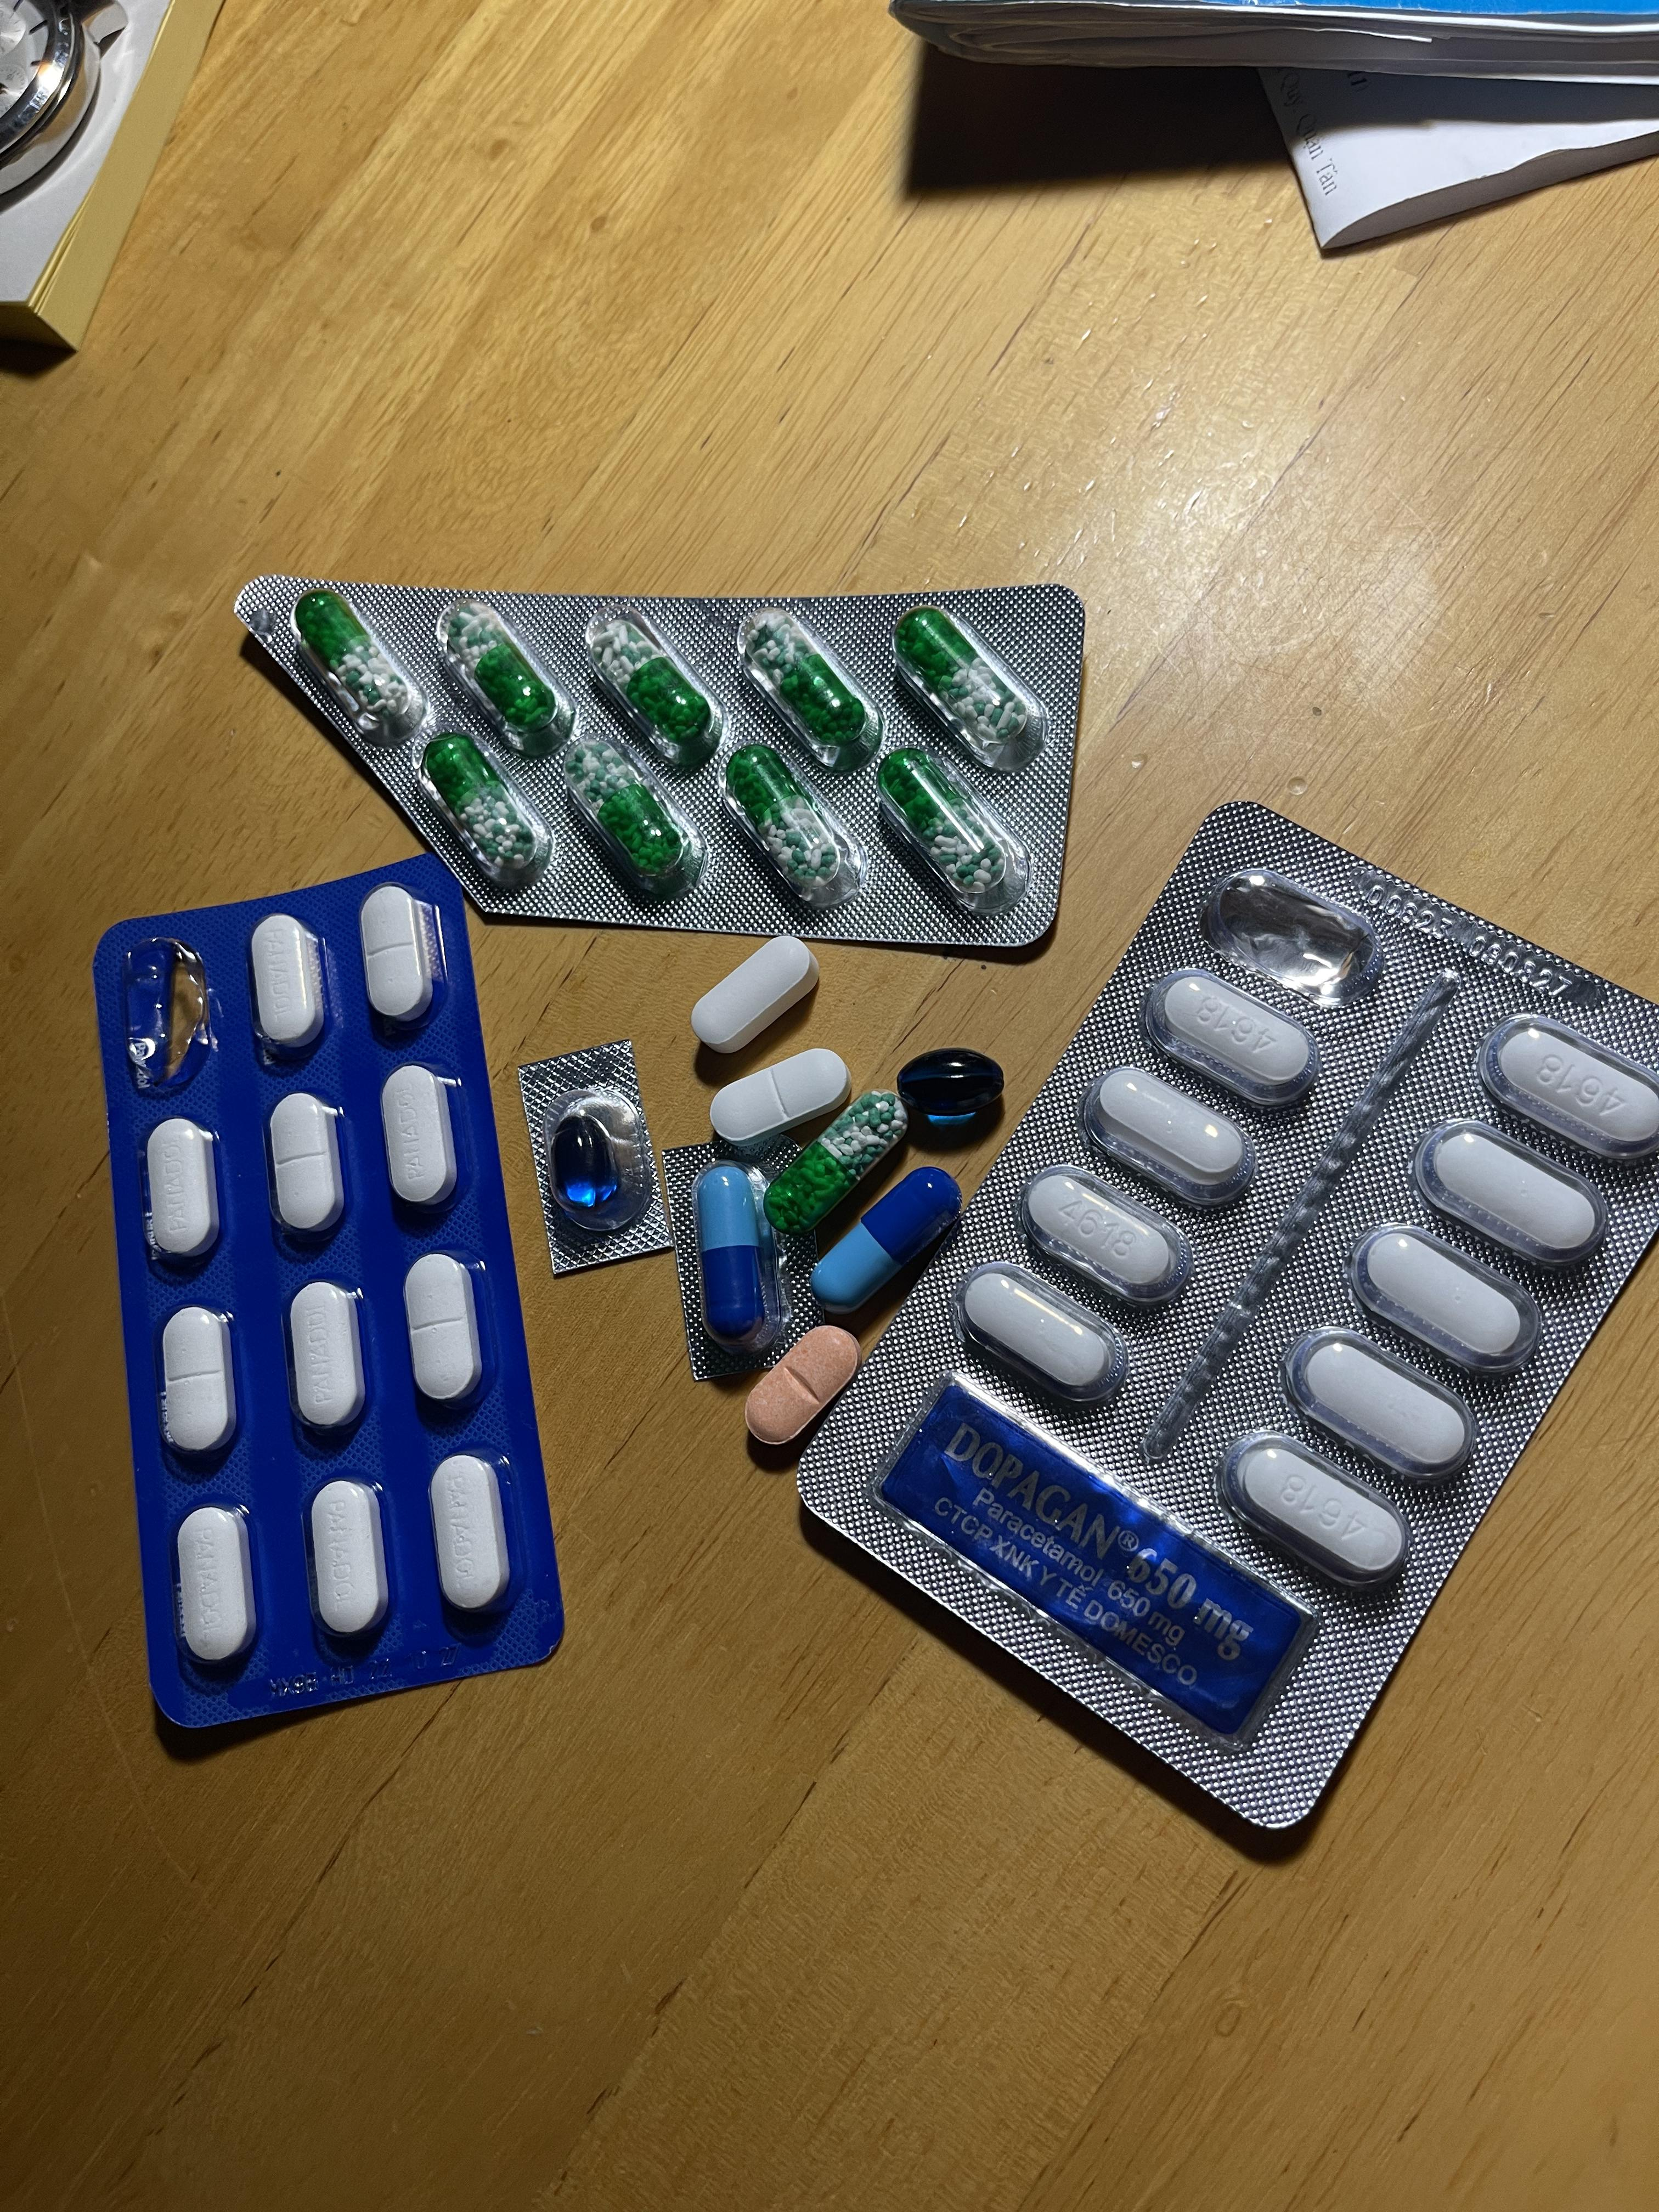Lincomyxin_500mg: (894, 1047, 1002, 1130), (551, 1111, 619, 1209)
Loratadine_10mg: (746, 1320, 859, 1440)
Paracetamol_350mg: (711, 1047, 849, 1153), (174, 1505, 254, 1665), (308, 1480, 387, 1641), (430, 1454, 509, 1613), (404, 1254, 481, 1407), (288, 1282, 364, 1432), (160, 1305, 235, 1456), (380, 1066, 457, 1209), (145, 1116, 220, 1259), (268, 1090, 343, 1233), (251, 914, 326, 1050), (361, 890, 434, 1021)
Paracetamol_500mg: (1297, 1334, 1466, 1468), (1361, 1228, 1525, 1360), (1429, 1127, 1596, 1254), (1025, 1165, 1176, 1305), (1237, 1446, 1394, 1575), (1502, 1028, 1657, 1144), (1100, 1069, 1244, 1186), (967, 1273, 1105, 1390), (1164, 974, 1305, 1087), (688, 939, 819, 1049)
Paracetamol_650mg: (894, 601, 1051, 770), (885, 744, 1033, 906), (741, 608, 885, 773), (586, 610, 730, 773), (558, 732, 701, 897), (436, 596, 577, 761), (721, 738, 859, 902), (765, 1087, 906, 1244), (288, 587, 425, 745), (416, 726, 551, 887)
pill: (812, 1163, 955, 1317), (695, 1163, 765, 1336)
